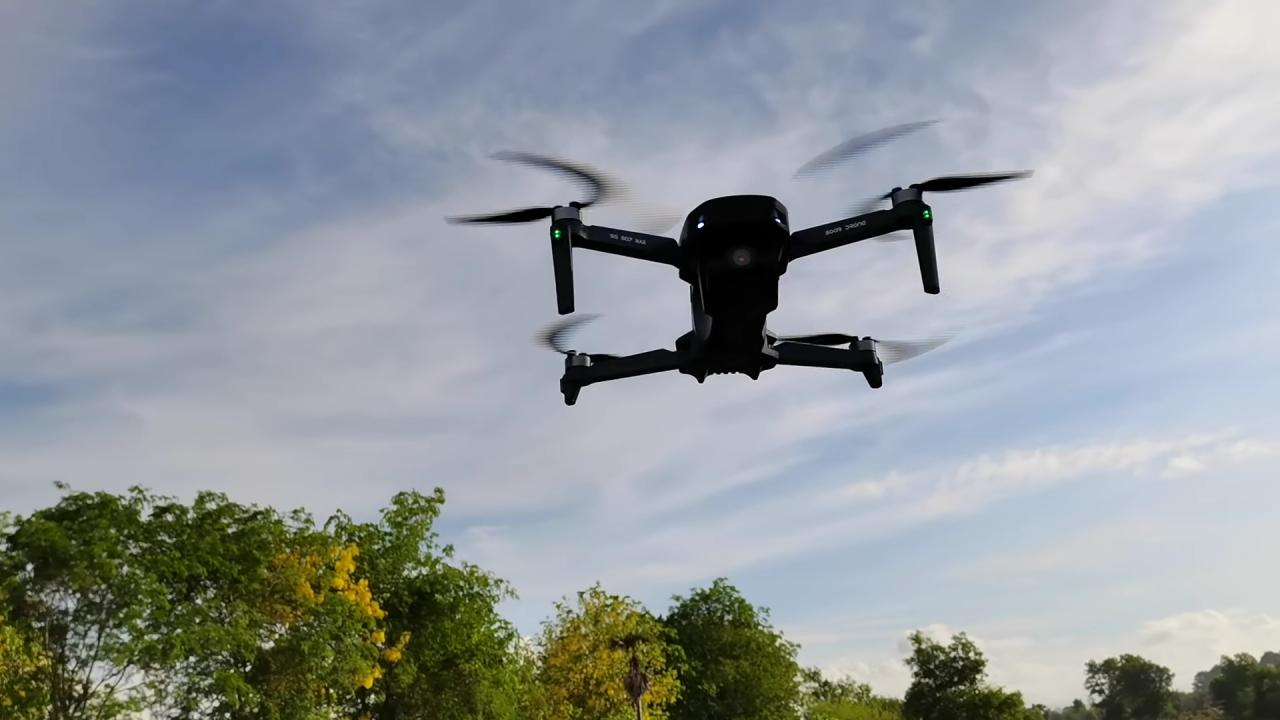Drone: (437, 111, 1048, 415)
